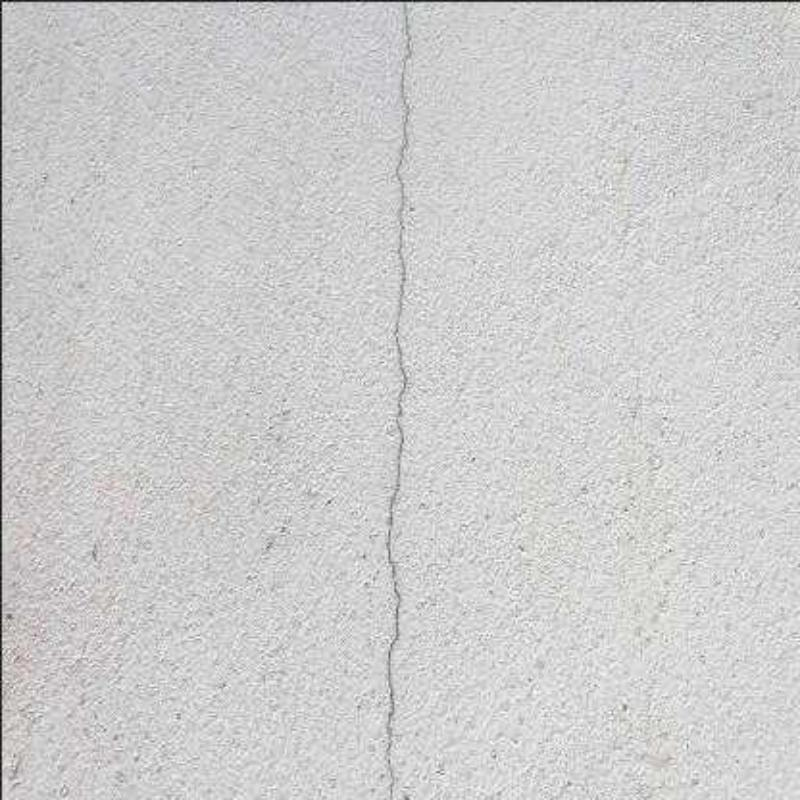pothole: (386, 1, 413, 798)
